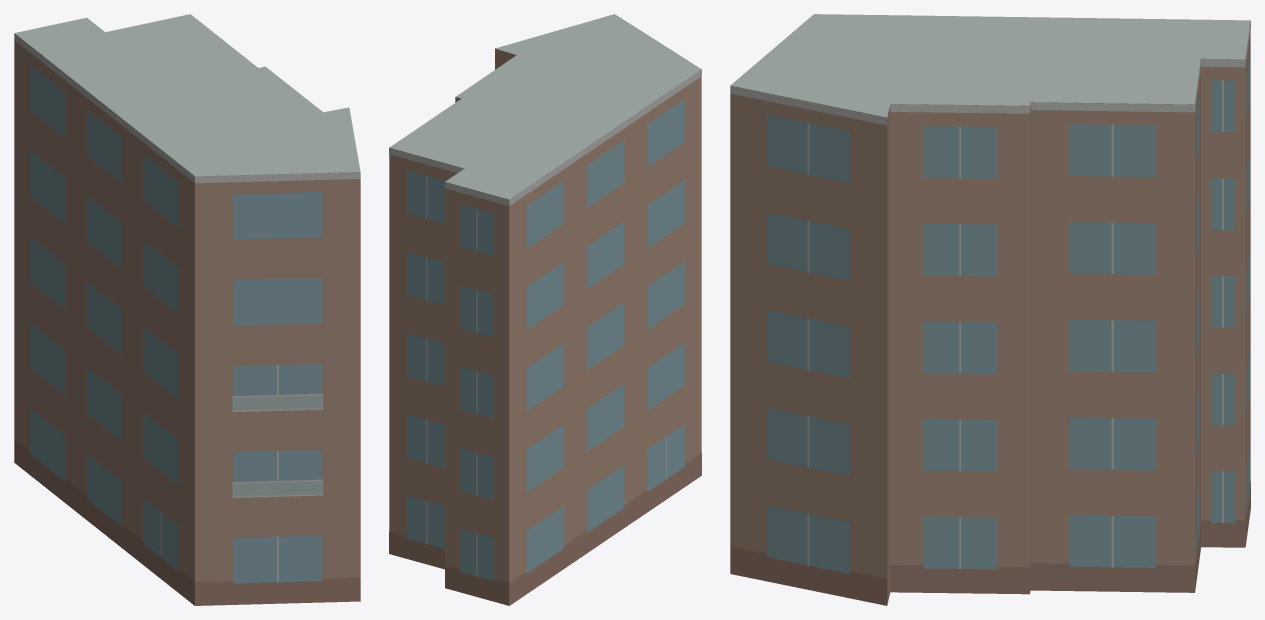
The model's file is survey-upis-32986056.glb.
3 views of the same model, side by side, from view 1: azimuth 30°, elevation 25°; view 2: azimuth 150°, elevation 25°; view 3: azimuth 270°, elevation 25° (orthographic). The views are drawn at different scales.
Visible parts, largest first — view 1: survey-upis-32986056.tmp; view 2: survey-upis-32986056.tmp; view 3: survey-upis-32986056.tmp.
Part boxes in pixels (left/top/right/bottom): survey-upis-32986056.tmp: left=14, top=14, right=360, bottom=605; survey-upis-32986056.tmp: left=389, top=14, right=701, bottom=605; survey-upis-32986056.tmp: left=730, top=14, right=1250, bottom=605.
Size of the model in its own units: 6.78 by 14.9 by 14.4.
